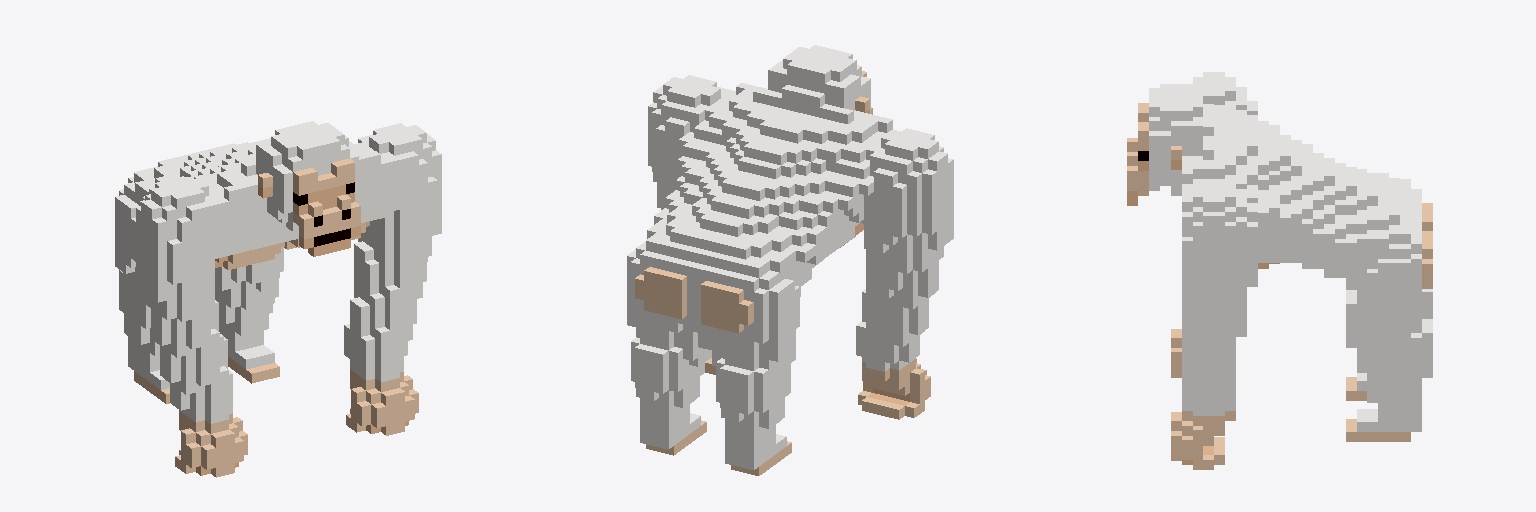
3 renders of one model, left to right at view 1: azimuth 30°, elevation 25°; view 2: azimuth 150°, elevation 25°; view 3: azimuth 270°, elevation 25°, orthographic.
Visible parts, largest first — view 1: object 1; view 2: object 1; view 3: object 1.
Boxes of the visible parts, x1,y1,x2,y2 form: object 1: [115, 121, 441, 477]; object 1: [627, 45, 953, 475]; object 1: [1127, 72, 1432, 469].
Bounding box in the file's own units: 3 × 3.2 × 2.8.
Materials: 1 (1 with a texture image).